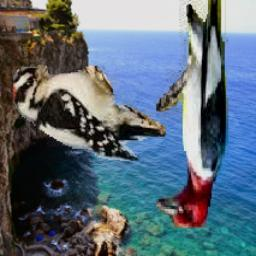Woodpecker: (156, 0, 228, 228), (13, 58, 172, 161)
